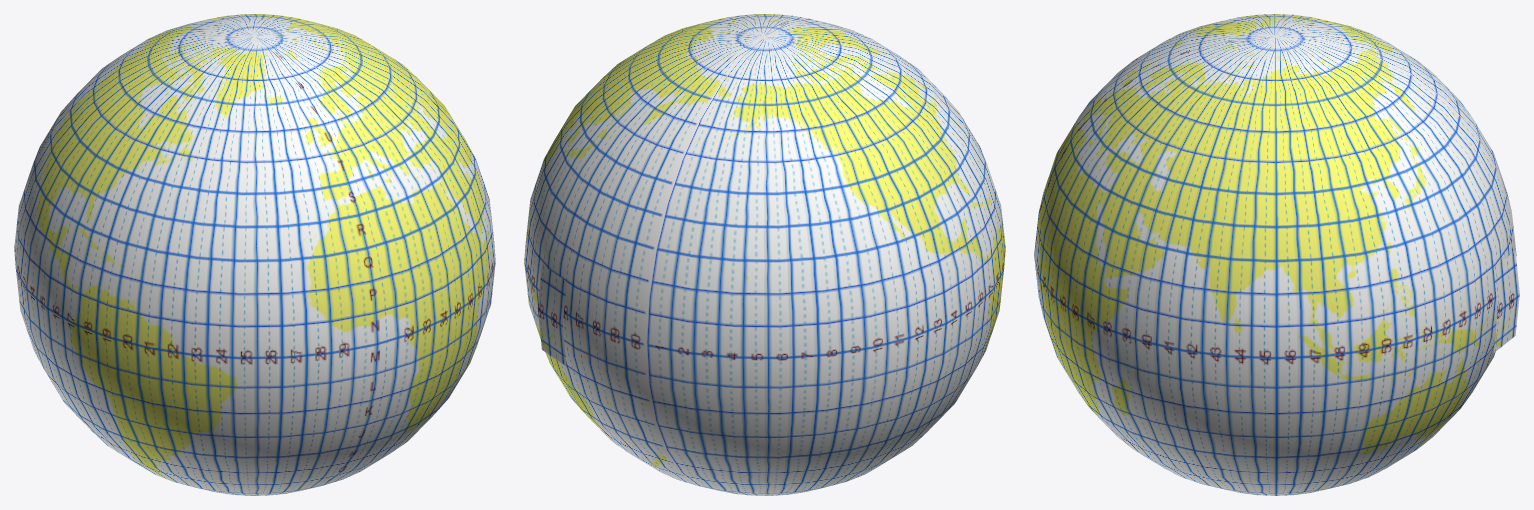
File: uTM_1.obj
3 renders of one model, left to right at view 1: azimuth 30°, elevation 25°; view 2: azimuth 150°, elevation 25°; view 3: azimuth 270°, elevation 25°, orthographic.
Visible parts, largest first — view 1: Sphere001; view 2: Sphere001, plane_; view 3: Sphere001, plane_.
Part boxes in pixels (left/top/right/bottom): Sphere001: left=14, top=14, right=495, bottom=495; Sphere001: left=524, top=14, right=1005, bottom=495; plane_: left=537, top=265, right=566, bottom=365; Sphere001: left=1034, top=14, right=1516, bottom=495; plane_: left=1493, top=251, right=1519, bottom=352.
Size of the model in its own units: 50.16 by 50.16 by 50.5.
